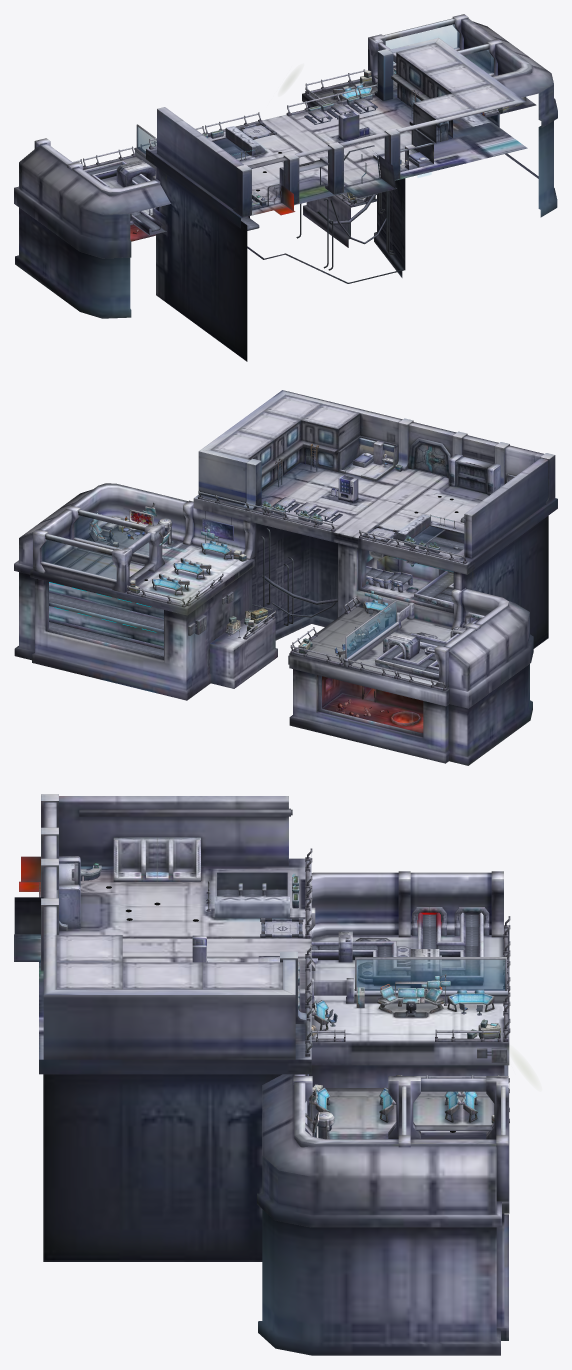
The model's file is febg_silvergunfactory_001_03.glb.
The picture shows the model from 3 angles, top to bottom: view 1: azimuth 30°, elevation 25°; view 2: azimuth 150°, elevation 25°; view 3: azimuth 270°, elevation 25°; orthographic projection. The views are drawn at different scales.
Parts seen in each view (by area): view 1: febg_silvergunfactory_001_bg_03, febg_silvergunfactory_001_bg_02, febg_silvergunfactory_001_railset_01, febg_silvergunfactory_001_bg_01, febg_silvergunfactory_001_glass_01 (2), febg_silvergunfactory_001_railset_02, febg_silvergunfactory_001_vendingmachine_01 (1); view 2: febg_silvergunfactory_001_bg_03, febg_silvergunfactory_001_bg_02, febg_silvergunfactory_001_railset_01, febg_silvergunfactory_001_glass_01 (5) (×2), febg_silvergunfactory_001_bg_01, febg_silvergunfactory_001_glass_01 (1), febg_silvergunfactory_001_record_01, febg_silvergunfactory_001_glass_01, febg_silvergunfactory_001_railset_02, febg_silvergunfactory_001_belt_02, febg_silvergunfactory_001_belt_02 (1), febg_silvergunfactory_001_gate_01 (+2 smaller); view 3: febg_silvergunfactory_001_bg_03, febg_silvergunfactory_001_bg_02, febg_silvergunfactory_001_glass_01 (4) (×2), febg_silvergunfactory_001_railset_01, febg_silvergunfactory_001_terminal_03, febg_silvergunfactory_001_railset_02, febg_silvergunfactory_001_commanddesk_01 (1), febg_silvergunfactory_001_record_01, febg_silvergunfactory_001_factoryportal_01.
Part boxes in pixels (x1,y1,x2,y2): febg_silvergunfactory_001_bg_03: (14,14,557,361); febg_silvergunfactory_001_bg_02: (146,38,527,228); febg_silvergunfactory_001_railset_01: (84,160,162,234); febg_silvergunfactory_001_bg_01: (373,129,435,171); febg_silvergunfactory_001_glass_01 (2): (386,24,459,63); febg_silvergunfactory_001_railset_02: (87,164,259,231); febg_silvergunfactory_001_vendingmachine_01 (1): (338,111,359,140); febg_silvergunfactory_001_bg_03: (14,483,548,765); febg_silvergunfactory_001_bg_02: (193,390,557,574); febg_silvergunfactory_001_railset_01: (366,566,484,680); febg_silvergunfactory_001_glass_01 (5) (×2): (347,602,395,657); febg_silvergunfactory_001_bg_01: (338,435,397,481); febg_silvergunfactory_001_glass_01 (1): (42,540,116,579); febg_silvergunfactory_001_record_01: (448,454,500,495); febg_silvergunfactory_001_glass_01: (74,515,148,555); febg_silvergunfactory_001_railset_02: (366,567,453,673); febg_silvergunfactory_001_belt_02: (49,593,163,629); febg_silvergunfactory_001_belt_02 (1): (49,622,163,656); febg_silvergunfactory_001_gate_01: (414,443,446,476); febg_silvergunfactory_001_bg_03: (43,871,509,1355); febg_silvergunfactory_001_bg_02: (14,794,311,1074); febg_silvergunfactory_001_glass_01 (4) (×2): (357,960,504,990); febg_silvergunfactory_001_railset_01: (311,907,489,988); febg_silvergunfactory_001_terminal_03: (113,837,200,881); febg_silvergunfactory_001_railset_02: (312,914,478,975); febg_silvergunfactory_001_commanddesk_01 (1): (377,981,444,1017); febg_silvergunfactory_001_record_01: (59,856,80,928); febg_silvergunfactory_001_factoryportal_01: (260,918,303,937).
Size of the model in its own units: 87.91 by 34.02 by 60.66.
16 materials, 16 textured.
